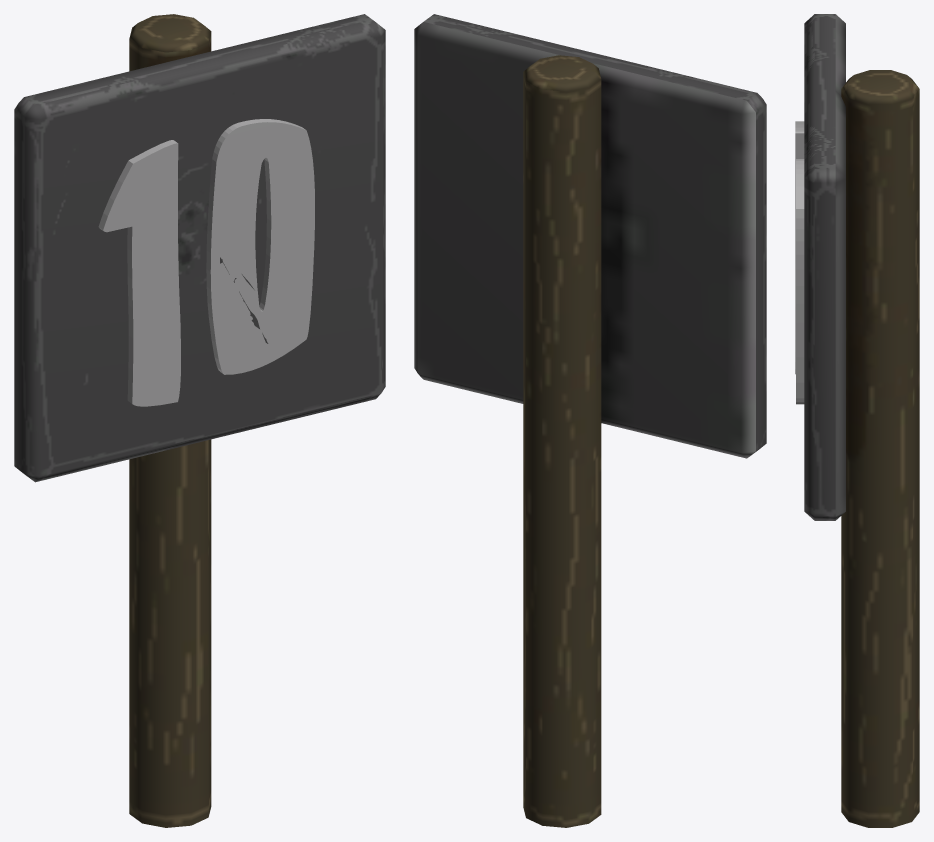
Rendered from sign10.fbx.
The picture shows the model from 3 angles, left to right: view 1: azimuth 30°, elevation 25°; view 2: azimuth 150°, elevation 25°; view 3: azimuth 270°, elevation 25°; orthographic projection. The views are drawn at different scales.
Parts seen in each view (by area): view 1: sign10; view 2: sign10; view 3: sign10.
Boxes of the visible parts, <box> form: sign10: <box>14,14,385,827</box>; sign10: <box>414,14,766,827</box>; sign10: <box>795,14,919,827</box>.
Bounding box in the file's own units: 1 × 2.07 × 0.3196.
1 material, 1 textured.
